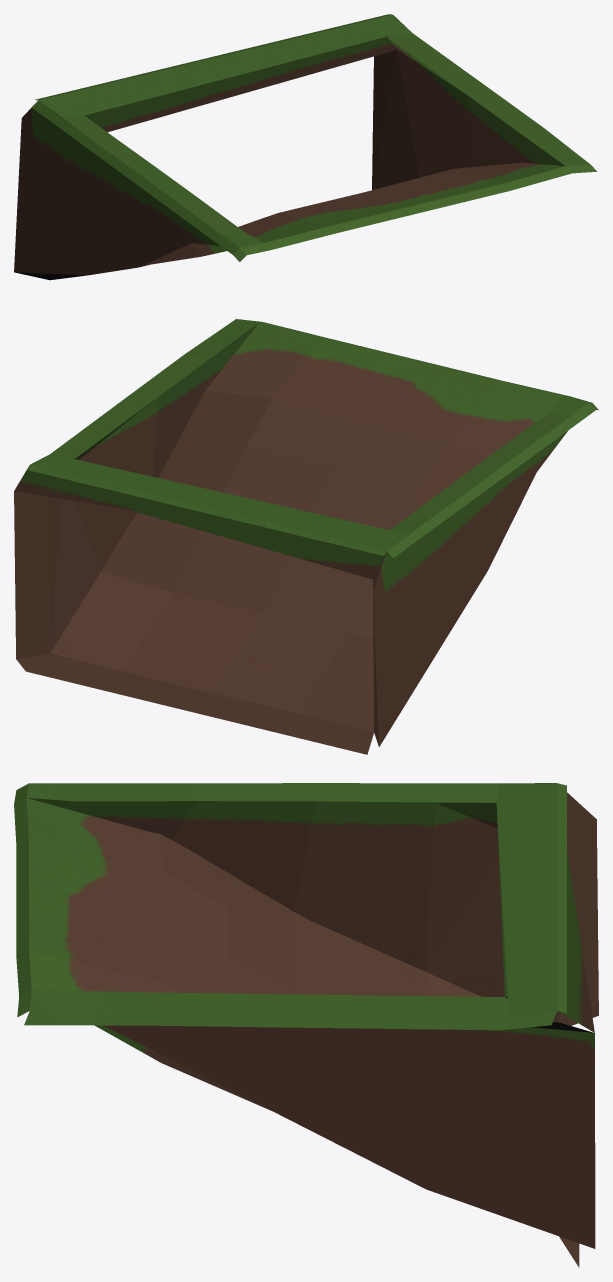
The model's file is ramptocave.gltf.
3 views of the same model, one above another, from view 1: azimuth 30°, elevation 25°; view 2: azimuth 150°, elevation 25°; view 3: azimuth 270°, elevation 25° (orthographic). The views are drawn at different scales.
Parts seen in each view (by area): view 1: Plane; view 2: Plane; view 3: Plane.
Part boxes in pixels (x1=…): Plane: x1=14, y1=14, x2=596, y2=280; Plane: x1=14, y1=319, x2=598, y2=754; Plane: x1=14, y1=783, x2=598, y2=1267.
Bounding box in the file's own units: 63.28 × 32.83 × 66.3.
Materials: 1 (1 with a texture image).
